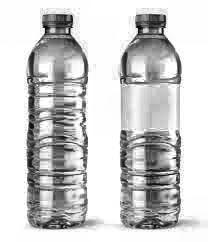waterbottle: (108, 4, 192, 232), (21, 7, 100, 230)
